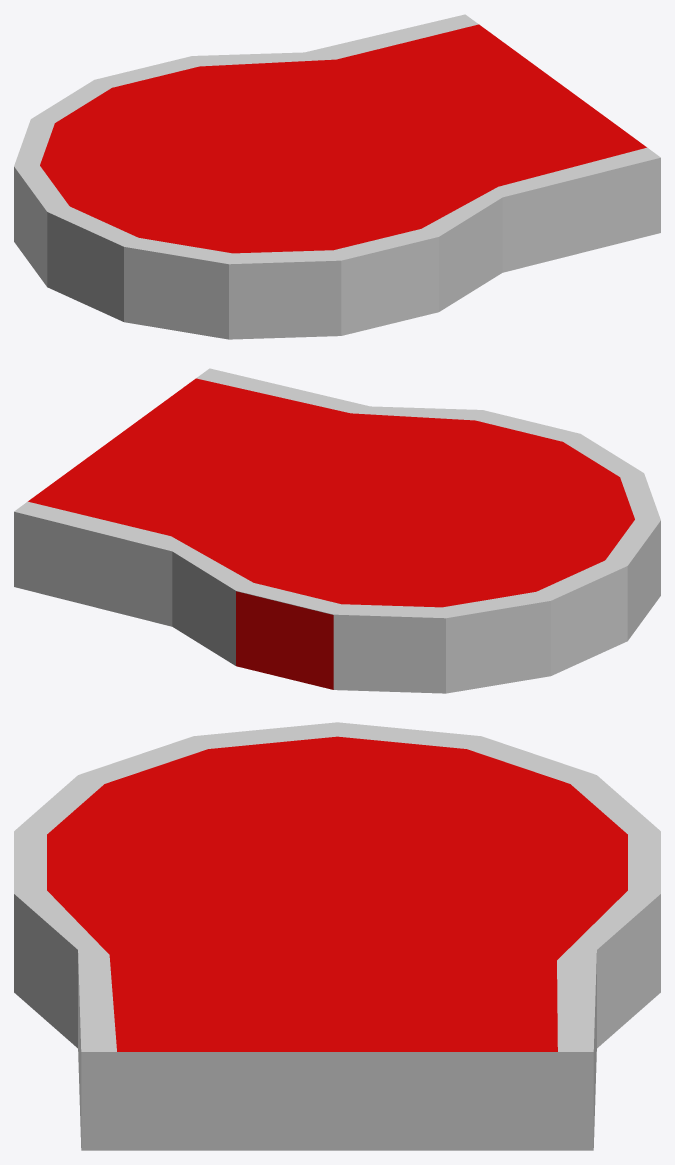
File: Ending.fbx
3 renders of one model, top to bottom at view 1: azimuth 30°, elevation 25°; view 2: azimuth 150°, elevation 25°; view 3: azimuth 270°, elevation 25°, orthographic. The views are drawn at different scales.
Visible parts, largest first — view 1: bevelsiz_baslangic_platform; view 2: bevelsiz_baslangic_platform; view 3: bevelsiz_baslangic_platform.
Part boxes in pixels (x1,y1,x2,y2): bevelsiz_baslangic_platform: (14, 14, 660, 339); bevelsiz_baslangic_platform: (14, 368, 660, 693); bevelsiz_baslangic_platform: (14, 722, 660, 1150).
Bounding box in the file's own units: 7.05 × 0.9847 × 5.85.
